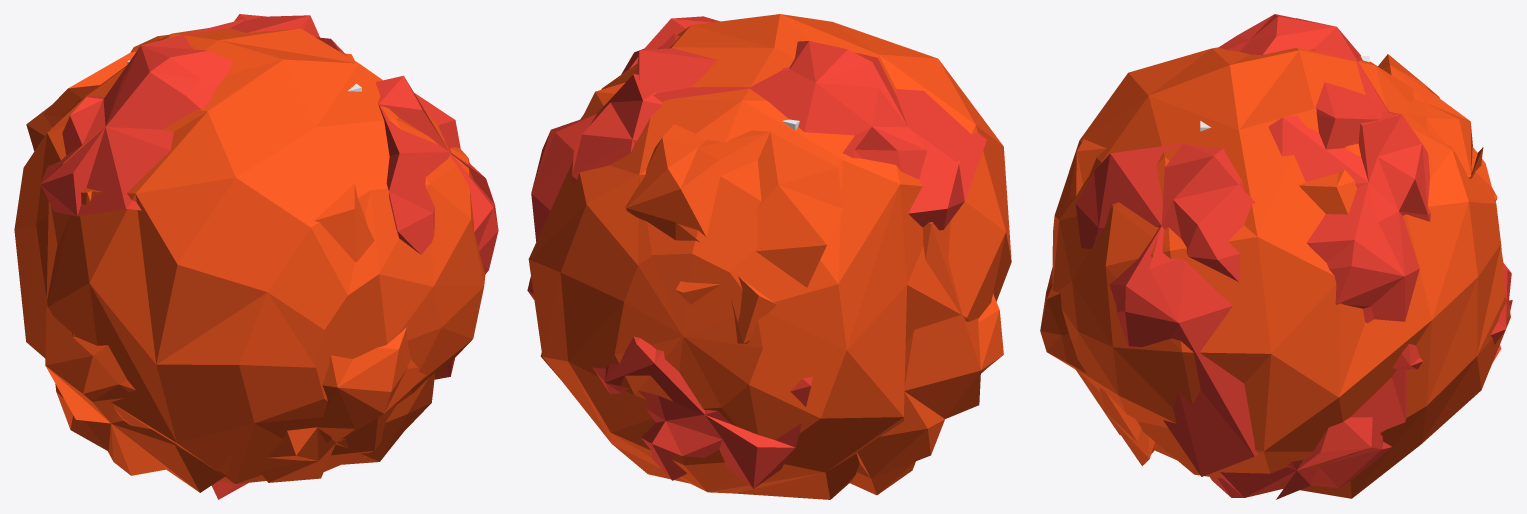
File: mars.glb
3 views of the same model, side by side, from view 1: azimuth 30°, elevation 25°; view 2: azimuth 150°, elevation 25°; view 3: azimuth 270°, elevation 25° (orthographic). The views are drawn at different scales.
Parts seen in each view (by area): view 1: Node-Mesh, Node-Mesh_1; view 2: Node-Mesh, Node-Mesh_1; view 3: Node-Mesh, Node-Mesh_1.
Part boxes in pixels (<box>): Node-Mesh: <box>14,28,485,492</box>; Node-Mesh_1: <box>40,14,498,499</box>; Node-Mesh: <box>528,14,1011,499</box>; Node-Mesh_1: <box>527,16,986,488</box>; Node-Mesh: <box>1040,47,1510,498</box>; Node-Mesh_1: <box>1075,14,1512,499</box>.
Size of the model in its own units: 0.2694 by 0.2699 by 0.2793.
